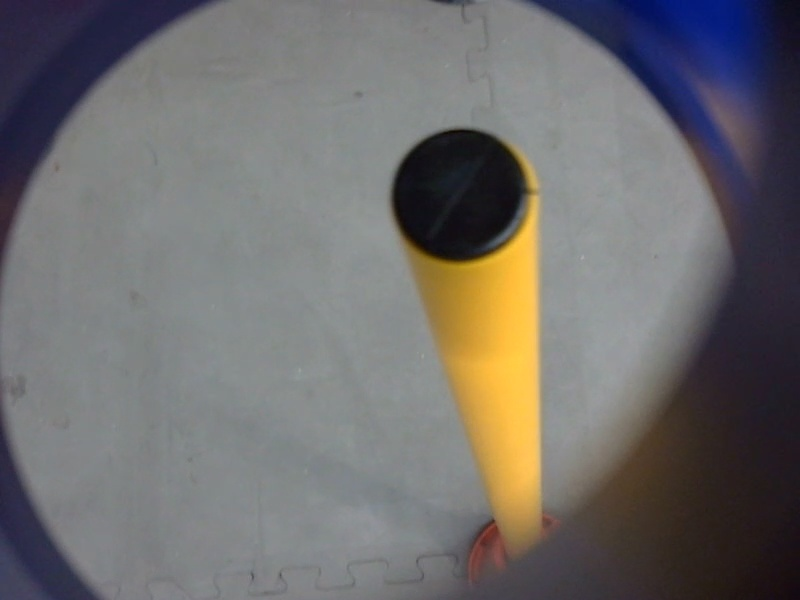tip: (379, 117, 552, 278)
